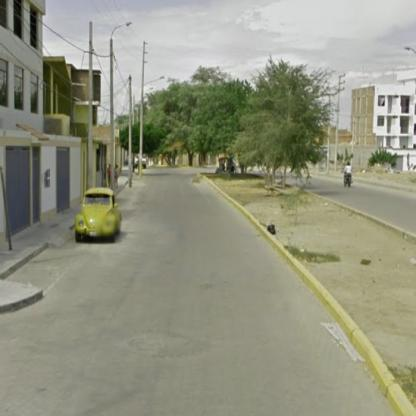Moto: (344, 161, 353, 189)
Peaton: (115, 166, 120, 188)
Pista: (3, 168, 397, 415)
Vehiculo: (74, 188, 121, 237)
